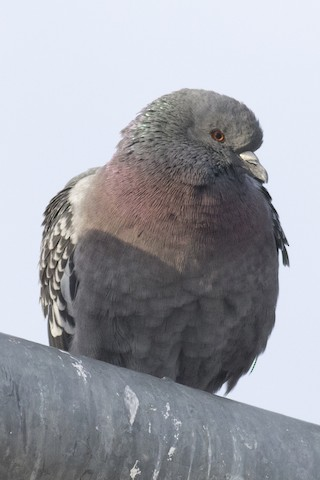pigeon: (31, 72, 297, 411)
